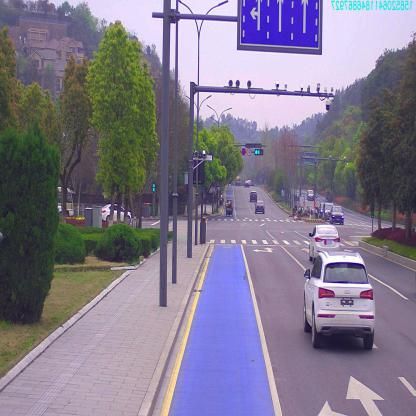traffic-light: (254, 148, 263, 154)
